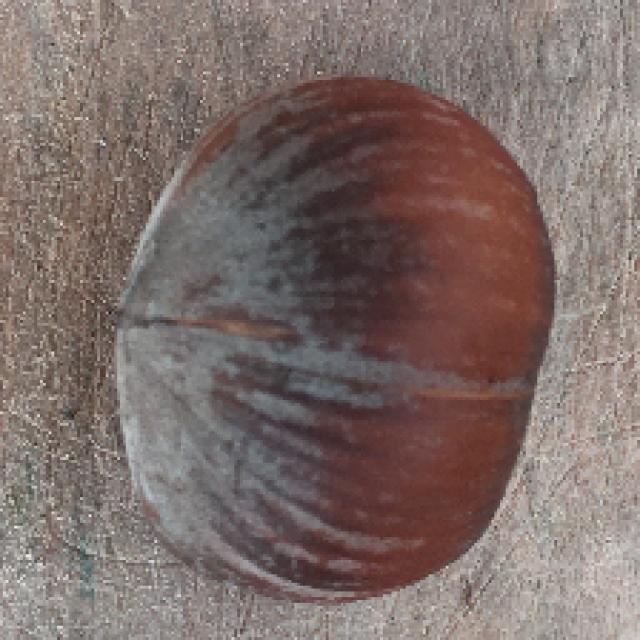DamagedHazelnut: (104, 73, 560, 607)
